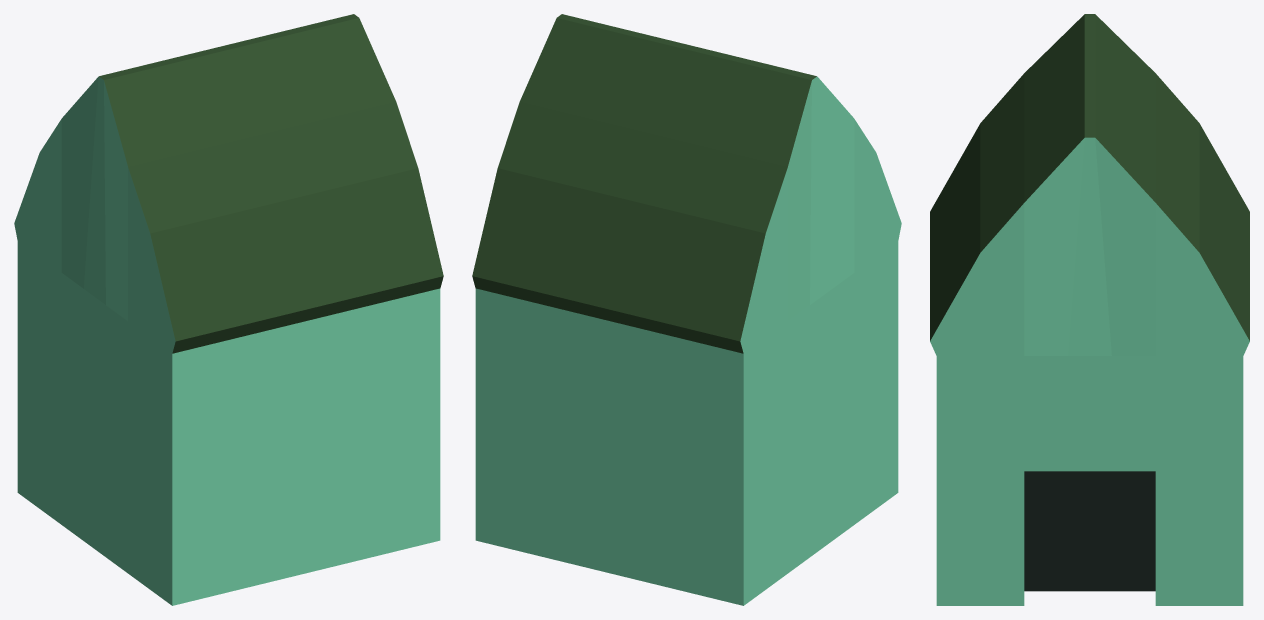
File: warehouse_V1.fbx
3 renders of one model, left to right at view 1: azimuth 30°, elevation 25°; view 2: azimuth 150°, elevation 25°; view 3: azimuth 270°, elevation 25°, orthographic.
Visible parts, largest first — view 1: Cube; view 2: Cube; view 3: Cube.
Boxes of the visible parts, <box> form: Cube: <box>14,14,443,605</box>; Cube: <box>472,14,901,605</box>; Cube: <box>930,14,1249,605</box>.
Bounding box in the file's own units: 200 × 335 × 209.
